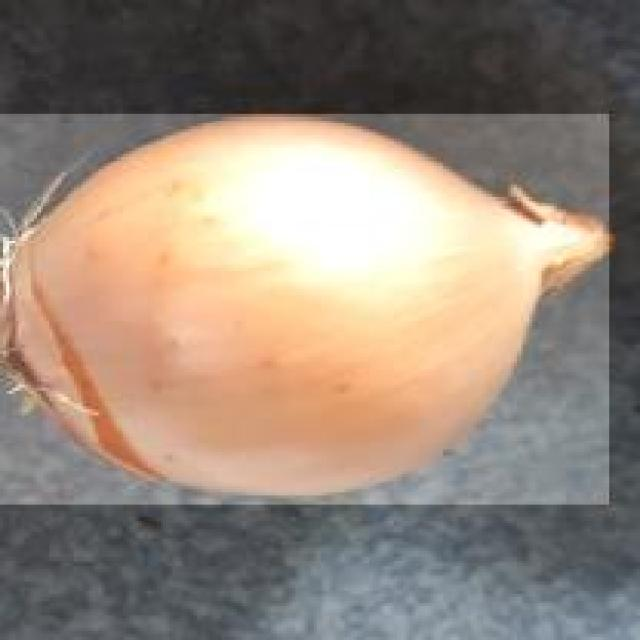onion: (0, 104, 612, 498)
